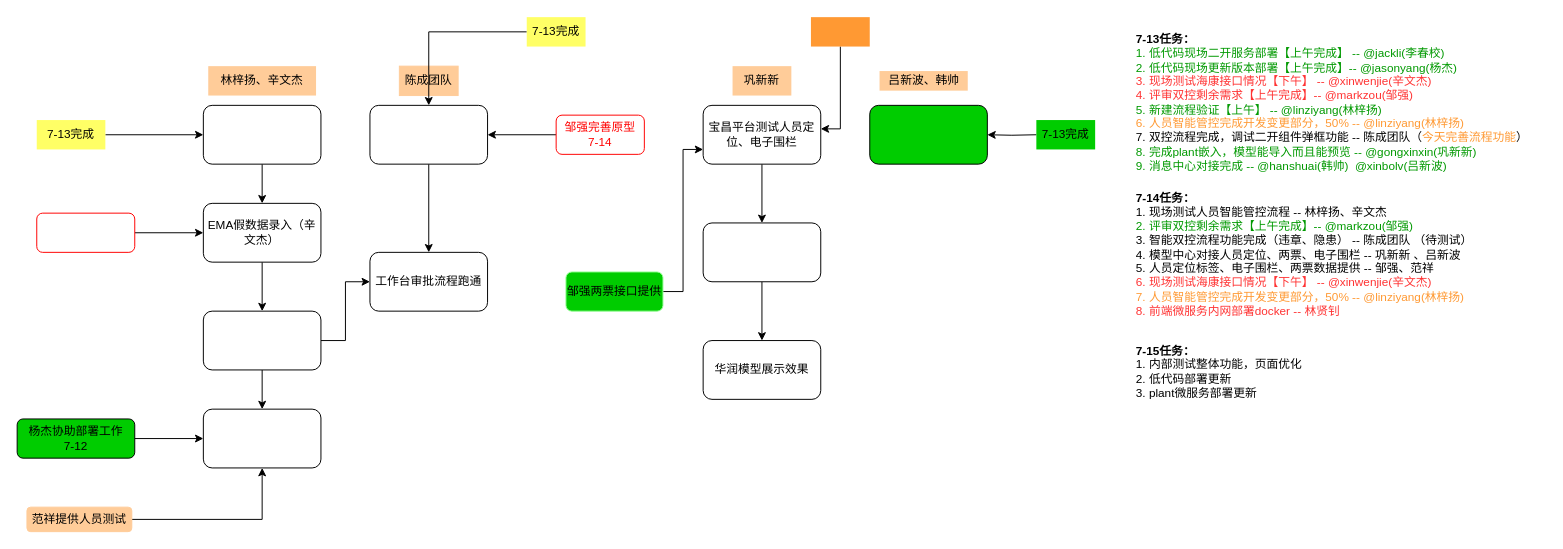
Some shapes in this 1563 by 549 pixel diagram are drawn without their labels. The shapes that lost their labels are listed below. From the top down, each one's centre as x and y in pixels, then its label:
At (x=839, y=31): "7-13 plant必须调通".
At (x=261, y=134): "人员智能管控变更".
At (x=428, y=134): "智能双控变更".
At (x=928, y=134): "消息通知".
At (x=85, y=232): "邹强提供数据字段".
At (x=761, y=252): "plant模型中心嵌入低代码".
At (x=261, y=340): "流程跑通".
At (x=261, y=438): "平台部署现场，完成门禁测试".
